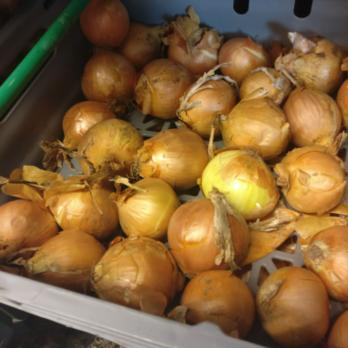Onion: (196, 24, 348, 324), (80, 1, 200, 297), (0, 162, 89, 271)
